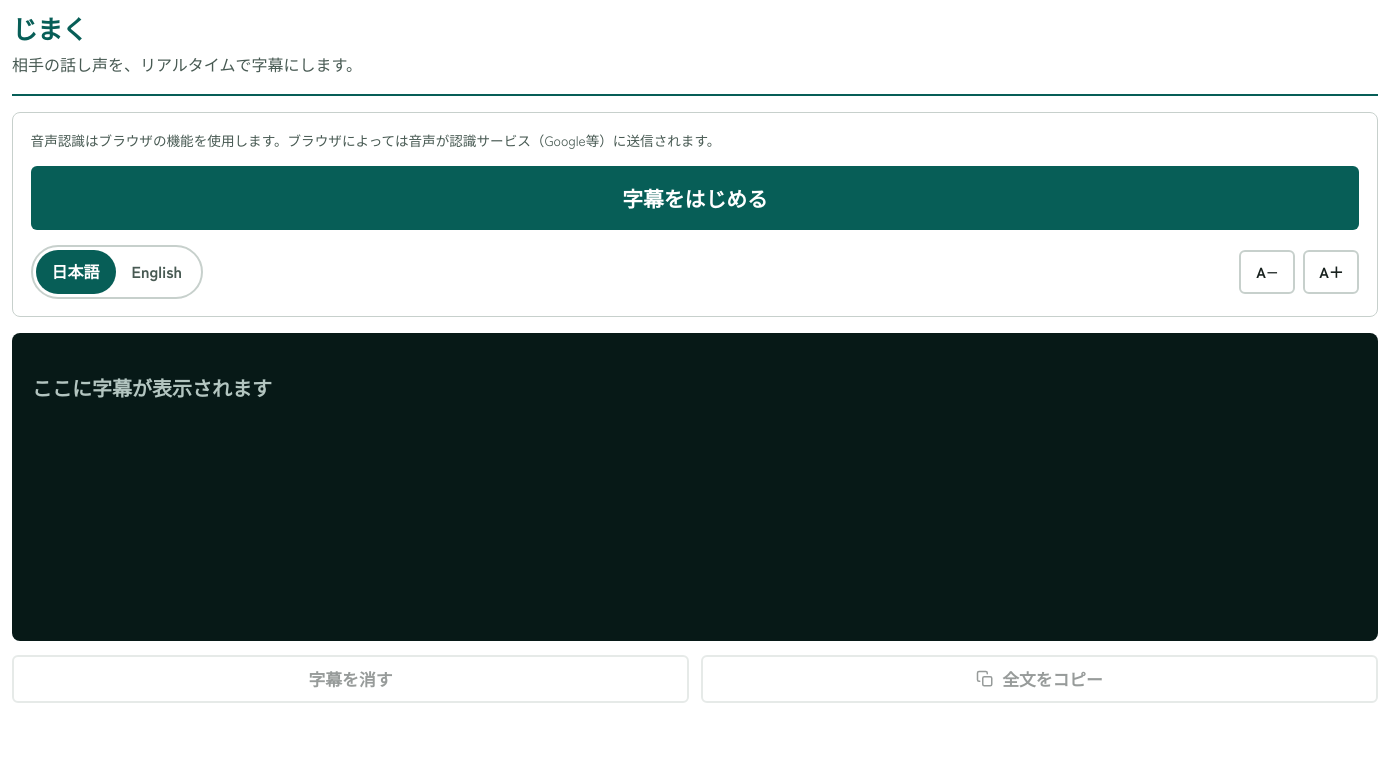
Test: Captions › shows an error message on network failure
Click the button "字幕をはじめる": (695, 198) [31,166,1359,230]
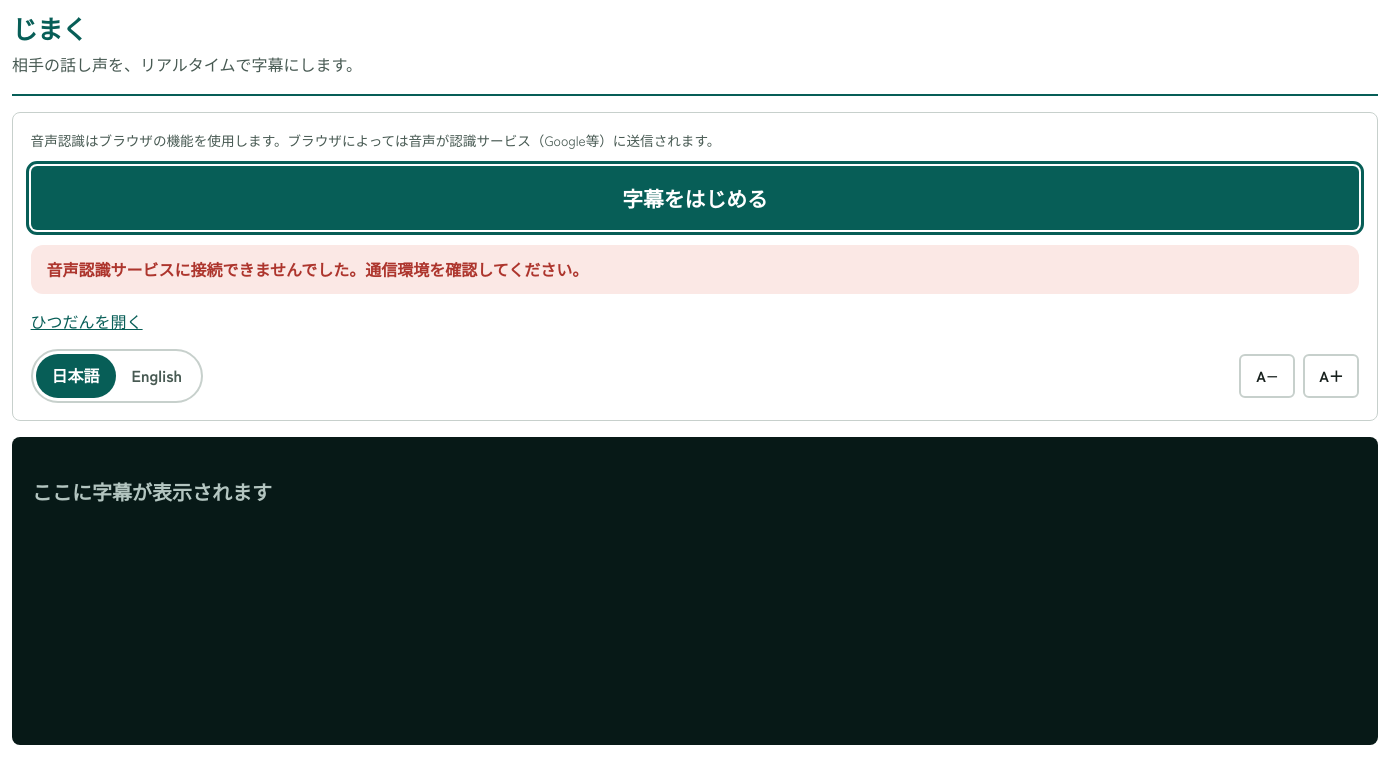
Expected: the message shows "音声認識サービスに接続できませんでした", [47,257,588,281]
